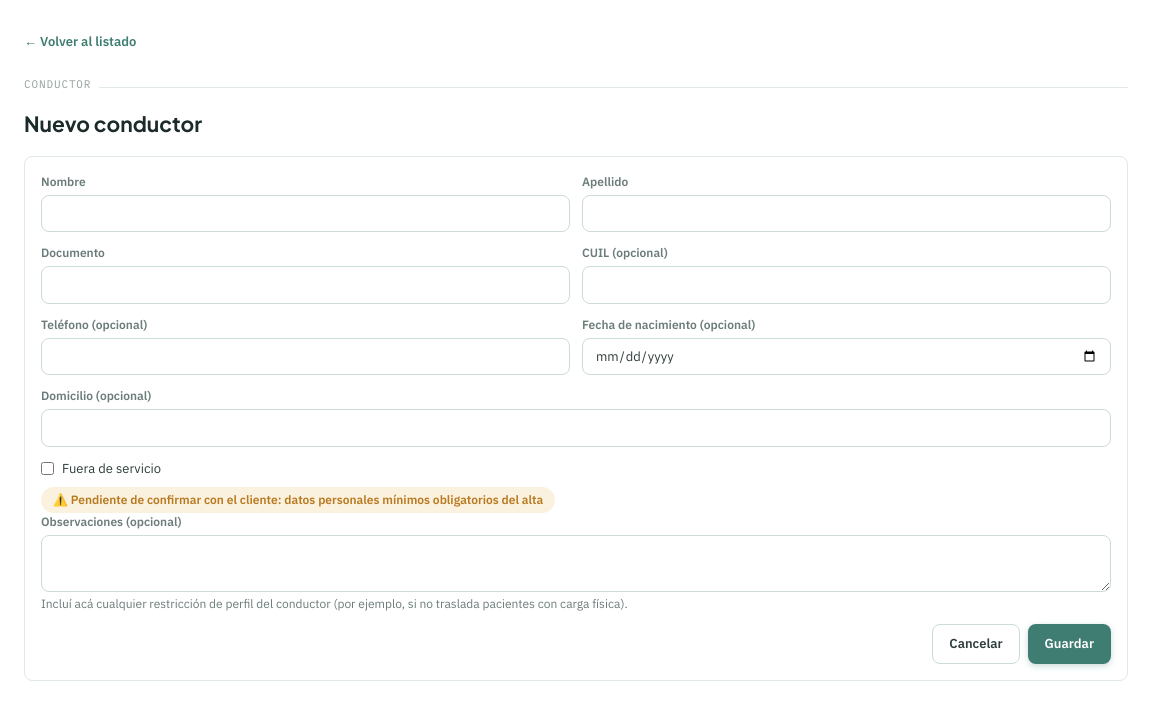
Test: ConductorDetail › muestra el error del repository de forma visible sin dejar loading infinito
In the field labelled "Apellido": (846, 213) [582,194,1111,232], type "Pérez"
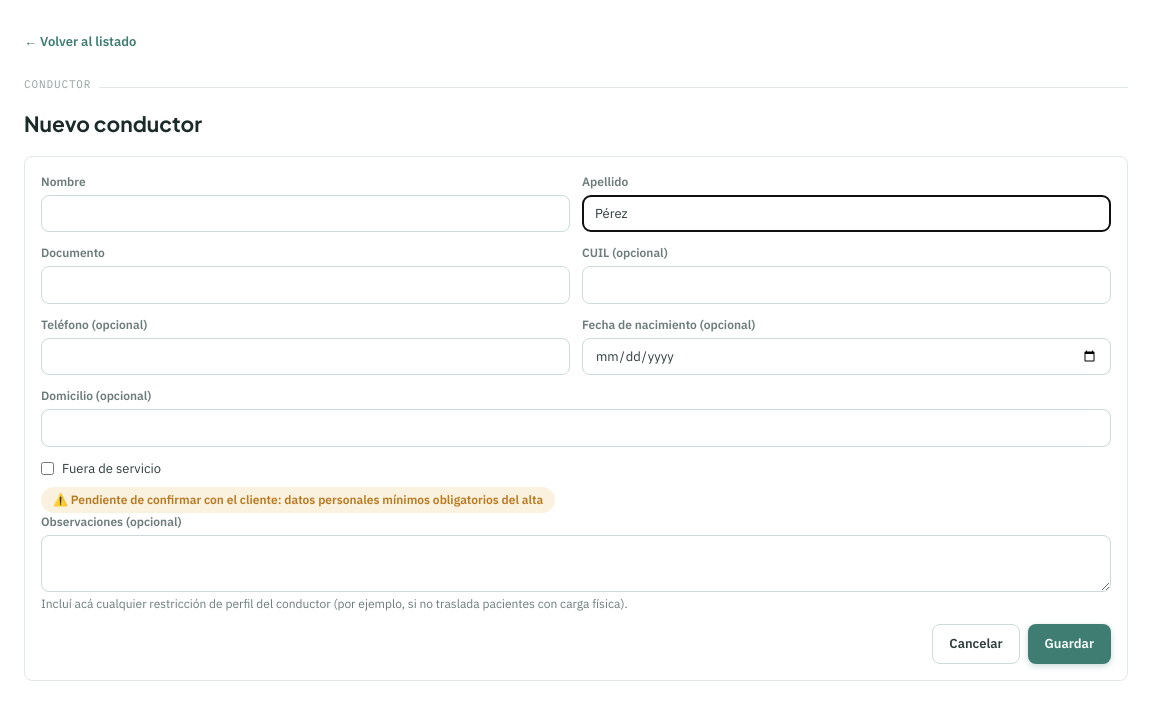
In the field labelled "Nombre": (306, 213) [41,194,570,232], type "Carlos"
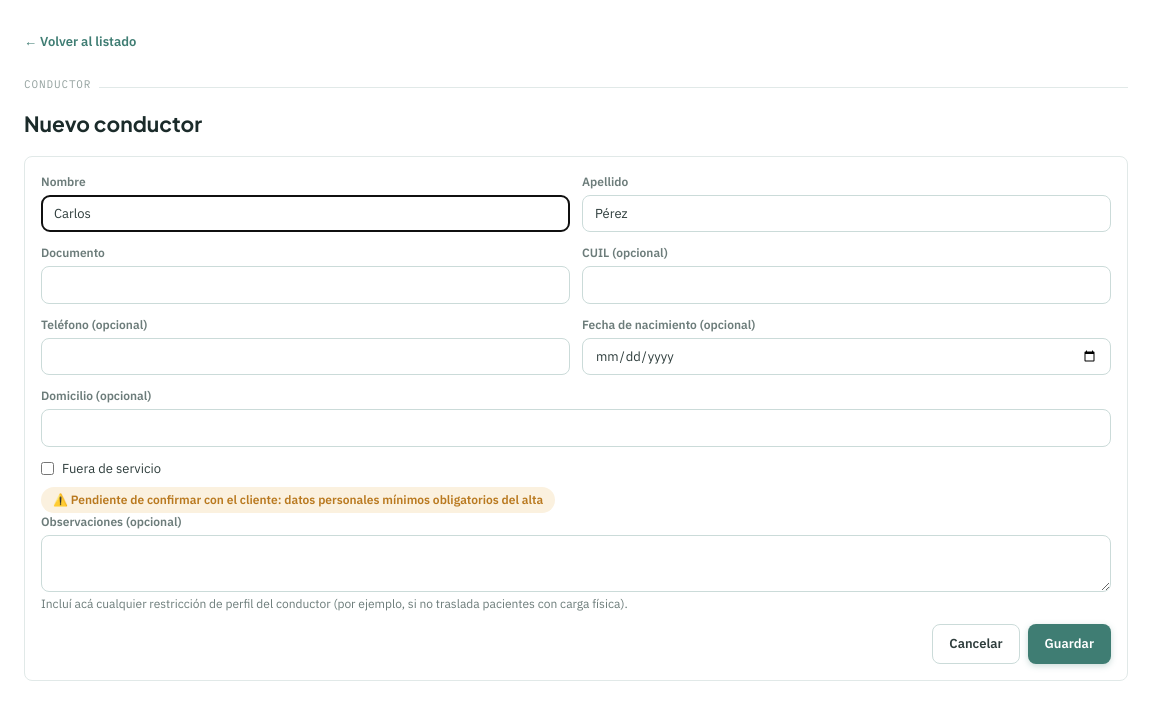
In the field labelled "Documento": (306, 285) [41,266,570,304], type "15789456"
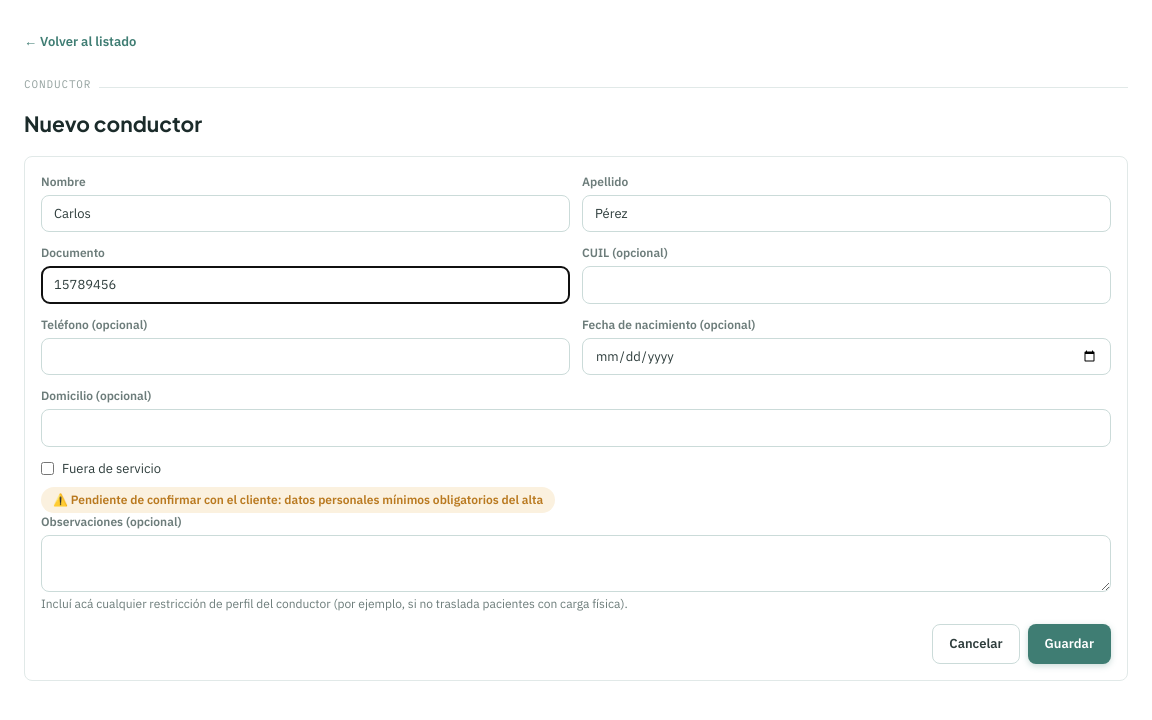
Click the button "Guardar": (1069, 644) [1028,624,1111,664]
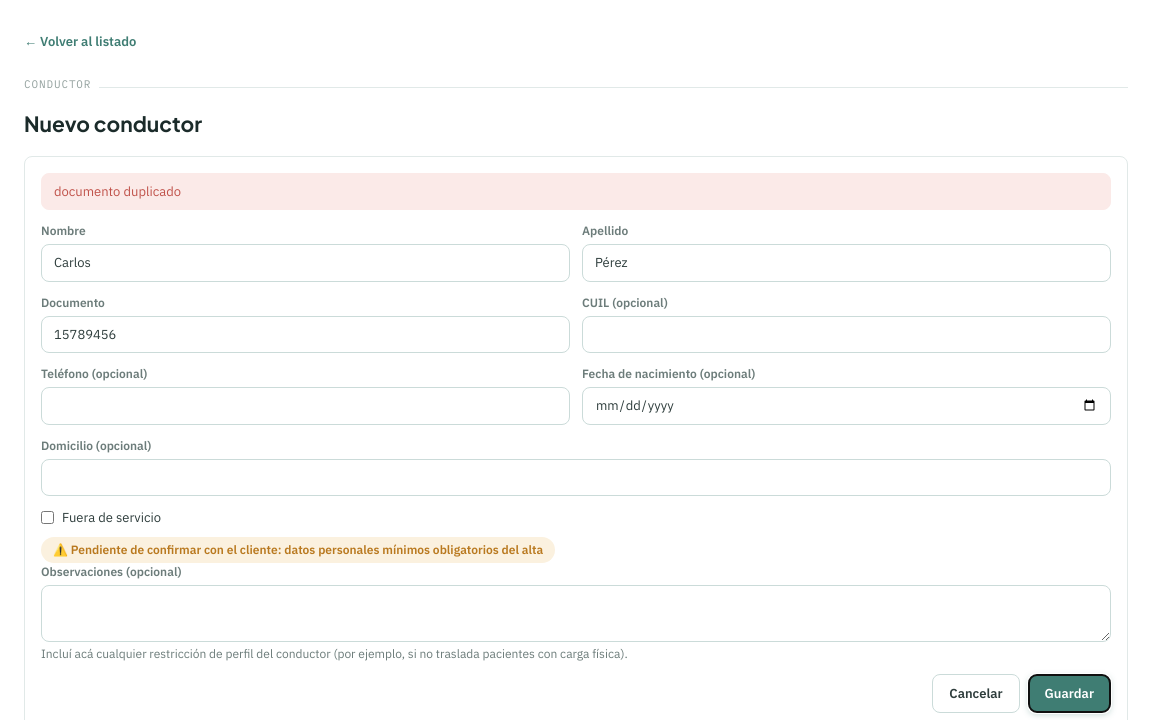
Expected: the button "Guardar" is enabled, [1028,674,1111,713]
Now the text "documento duplicado" is shown, box [41,172,1111,210]
